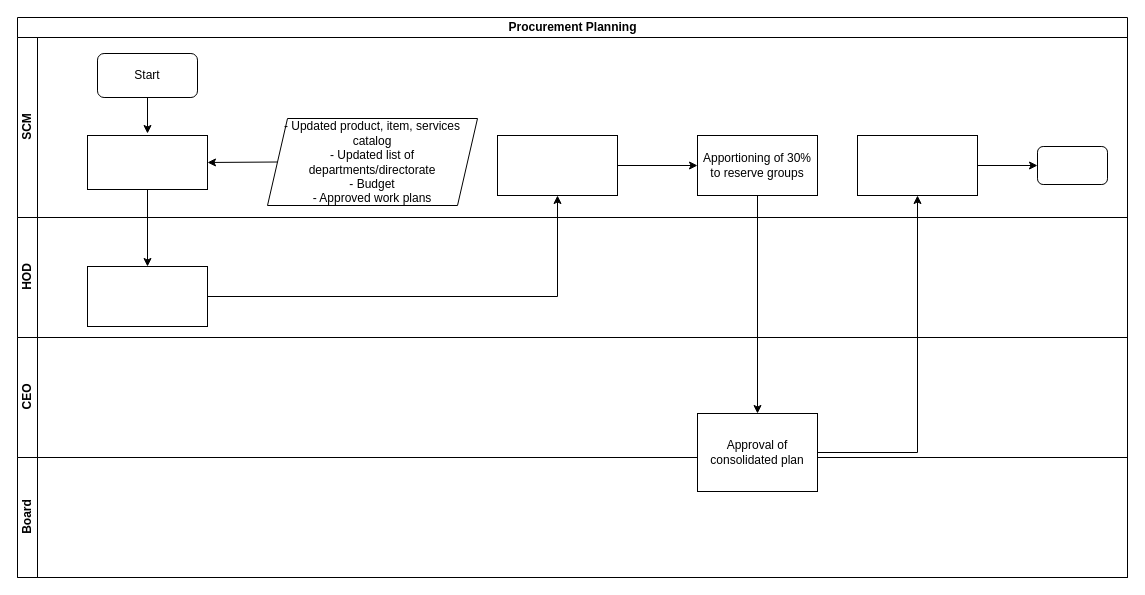
Image size: 1145x595. Some labels were removed from this diagram. The shapes that lost their labels are listed below. From the top down, each one's centre as x and y in pixels, then its label:
(x=147, y=162): Definition of a procurement period (start of year)
(x=557, y=165): Consolidation of Departmental plans
(x=917, y=165): Submission to PPRA
(x=1072, y=165): End
(x=147, y=296): Preparation of annual procurement plan per Department
